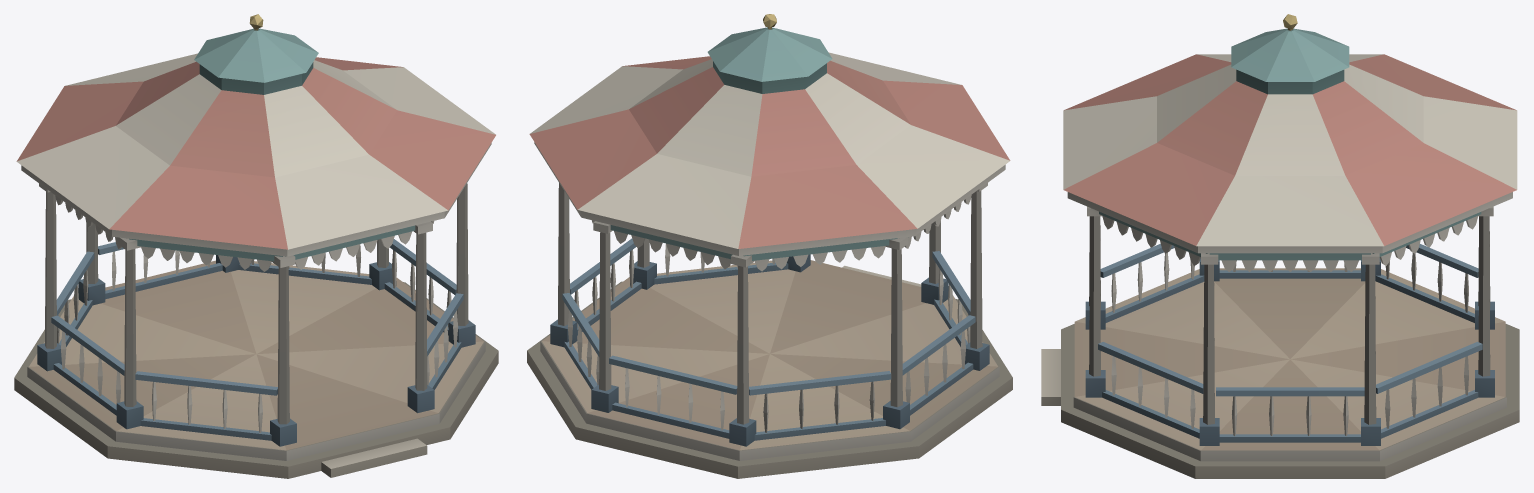
Rendered from bandstand.lod1.glb.
3 views of the same model, side by side, from view 1: azimuth 30°, elevation 25°; view 2: azimuth 150°, elevation 25°; view 3: azimuth 270°, elevation 25° (orthographic).
Bounding box in the file's own units: 7.31 × 6.45 × 7.63.
